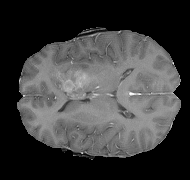Edema: (45, 48, 100, 98)
EnhancingTumors: (57, 62, 99, 94)
Necrosis: (57, 63, 95, 90)
